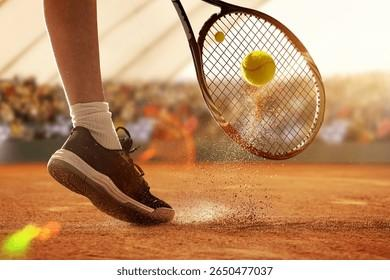ball_tennis: (240, 49, 278, 88)
